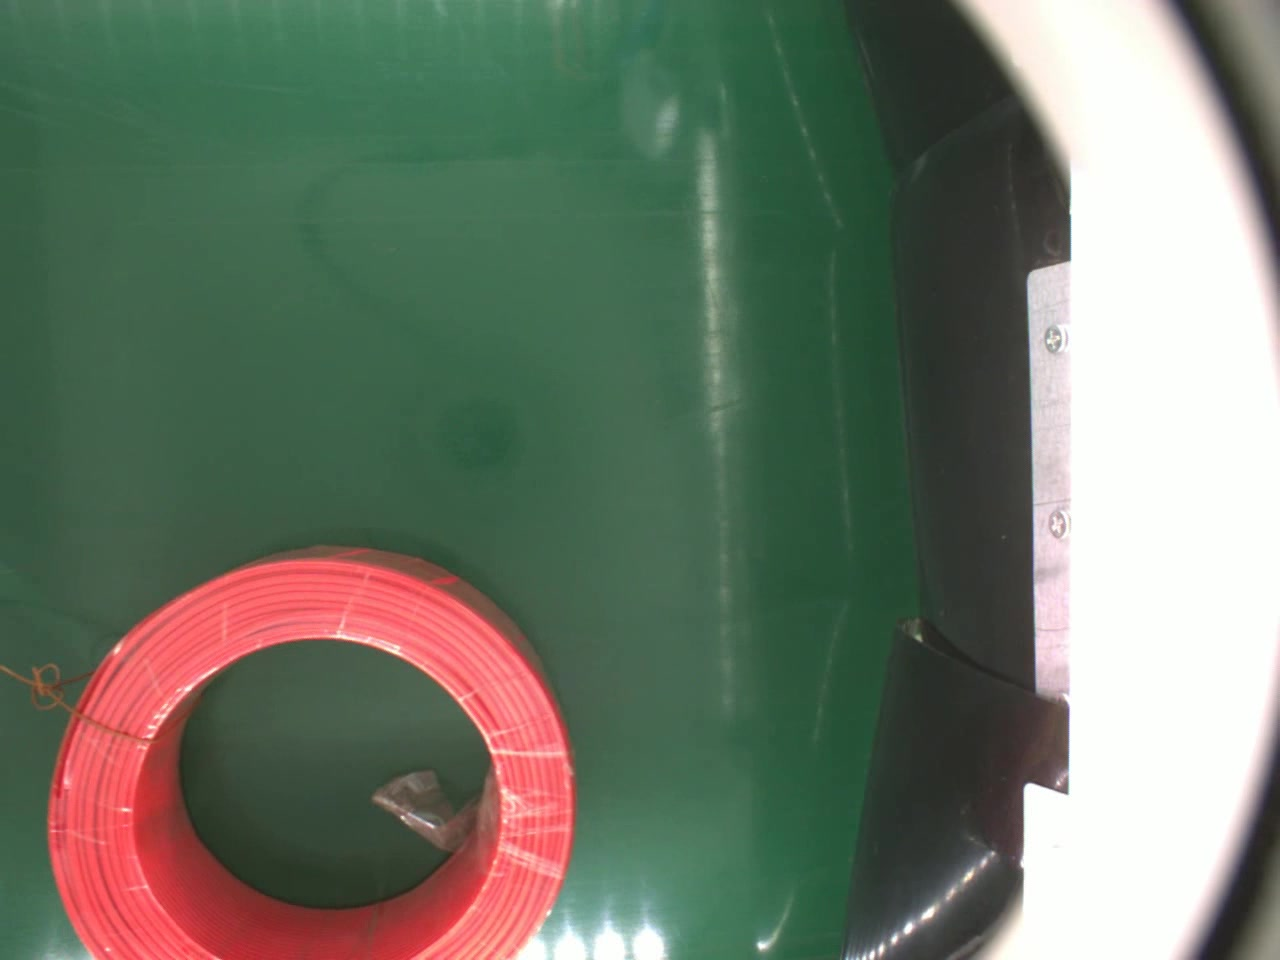red: (46, 543, 575, 960)
